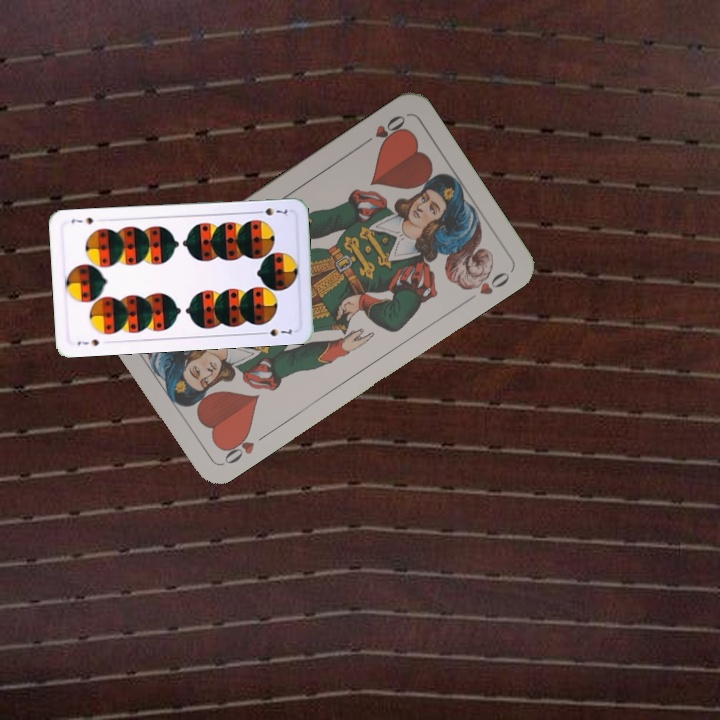HO: (217, 426, 271, 467), (356, 111, 409, 149)
S7: (251, 204, 290, 219), (73, 335, 102, 348)
